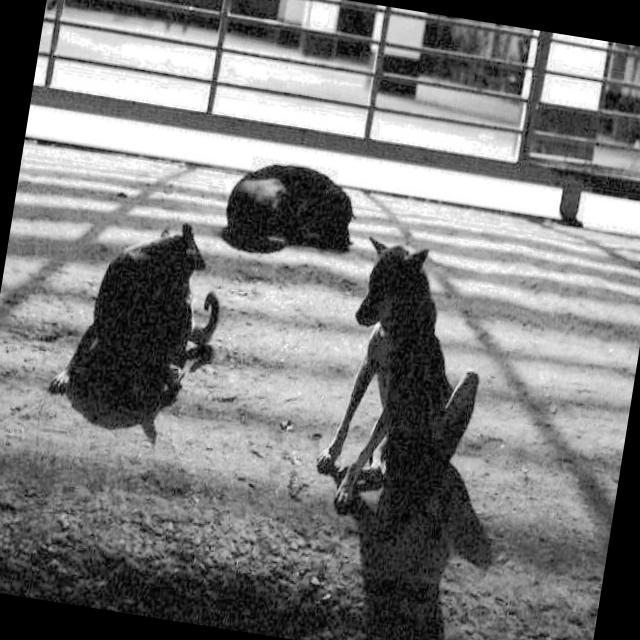Dog: (32, 164, 260, 462), (310, 240, 492, 561), (225, 124, 398, 287)
